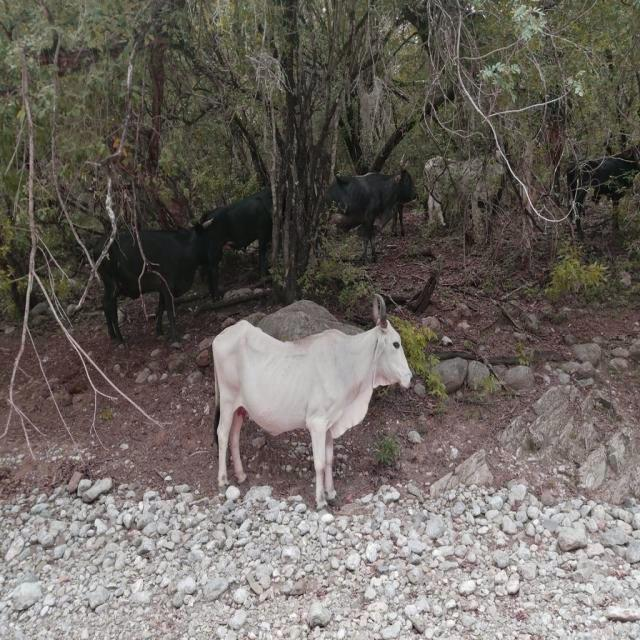cow: (212, 295, 412, 508)
